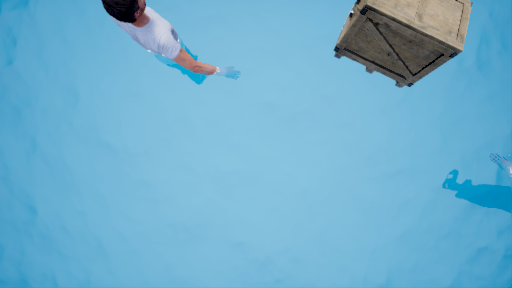person: (91, 1, 252, 93)
